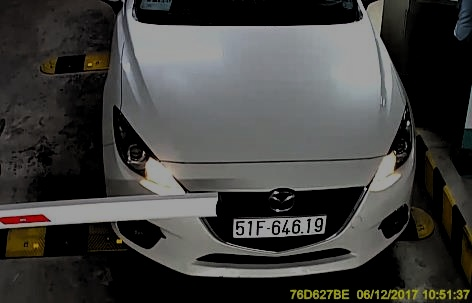plate: (230, 215, 325, 239)
